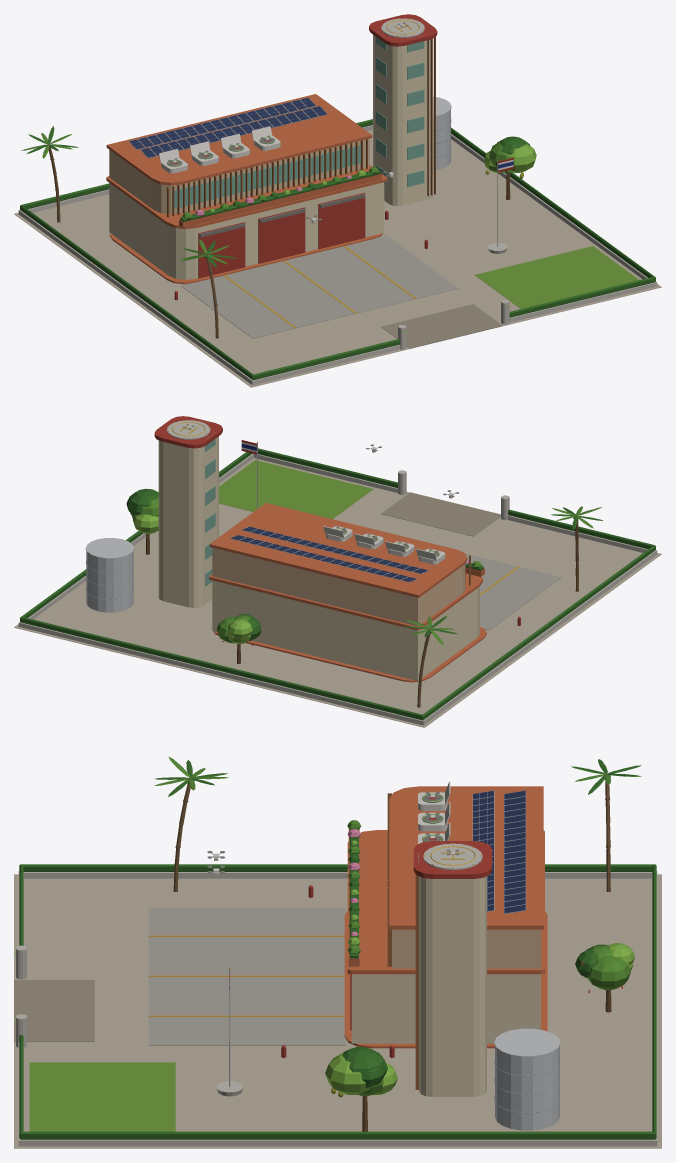
Rendered from fire.glb.
3 renders of one model, top to bottom at view 1: azimuth 30°, elevation 25°; view 2: azimuth 150°, elevation 25°; view 3: azimuth 270°, elevation 25°, orthographic. The views are drawn at different scales.
Parts seen in each view (by area): view 1: body; view 2: body; view 3: body.
Part boxes in pixels (x1,y1,x2,y2): body: (14,14,661,387); body: (14,416,661,727); body: (14,756,661,1148).
Bounding box in the file's own units: 49.19 × 18.86 × 47.9.
